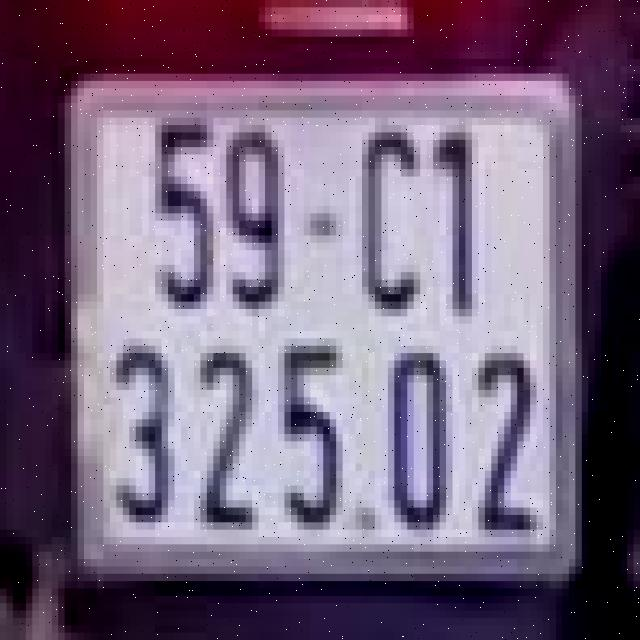0: (388, 350, 452, 534)
1: (427, 125, 491, 324)
2: (462, 309, 559, 552), (181, 334, 272, 540)
3: (91, 320, 181, 533)
5: (265, 320, 349, 533), (139, 114, 223, 305)
9: (217, 99, 294, 313)
C: (342, 114, 427, 320)
